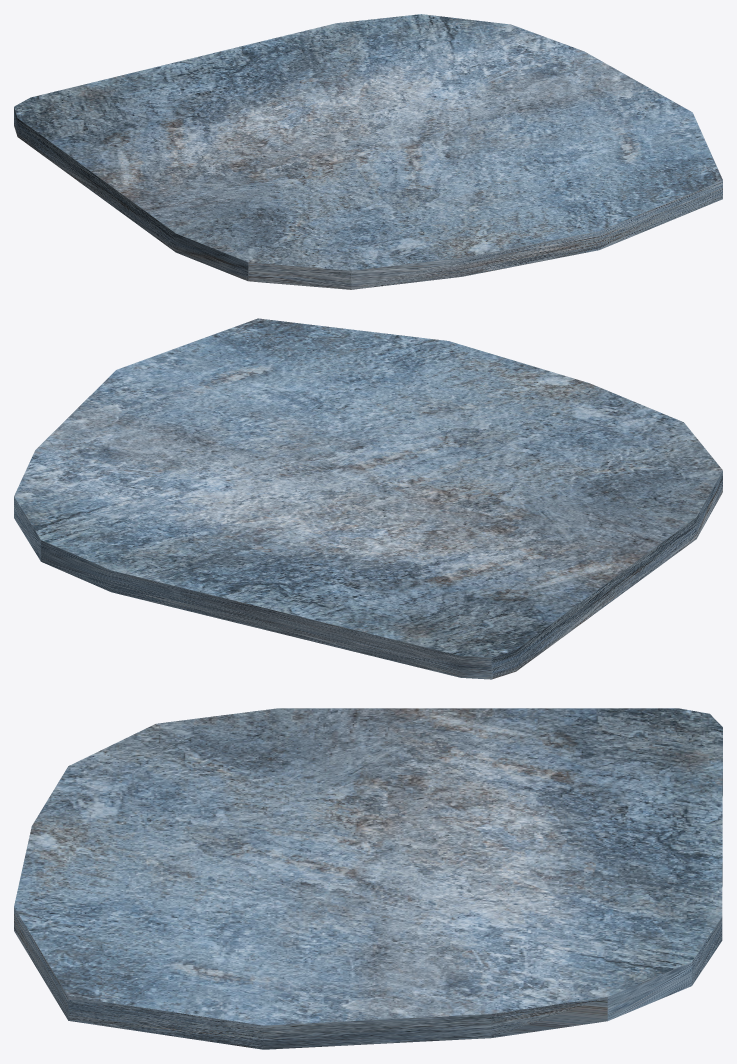
Rendered from lavatrastesPuertaI.obj.
3 views of the same model, one above another, from view 1: azimuth 30°, elevation 25°; view 2: azimuth 150°, elevation 25°; view 3: azimuth 270°, elevation 25° (orthographic). The views are drawn at different scales.
Parts seen in each view (by area): view 1: pasted__pasted__pCube10 pasted__group5 group7; view 2: pasted__pasted__pCube10 pasted__group5 group7; view 3: pasted__pasted__pCube10 pasted__group5 group7.
Part boxes in pixels (bbox=[...]): pasted__pasted__pCube10 pasted__group5 group7: bbox=[14, 14, 722, 289]; pasted__pasted__pCube10 pasted__group5 group7: bbox=[14, 318, 722, 679]; pasted__pasted__pCube10 pasted__group5 group7: bbox=[14, 708, 722, 1049].
Bounding box in the file's own units: 5.49 × 0.1951 × 5.19.
1 material, 1 textured.
